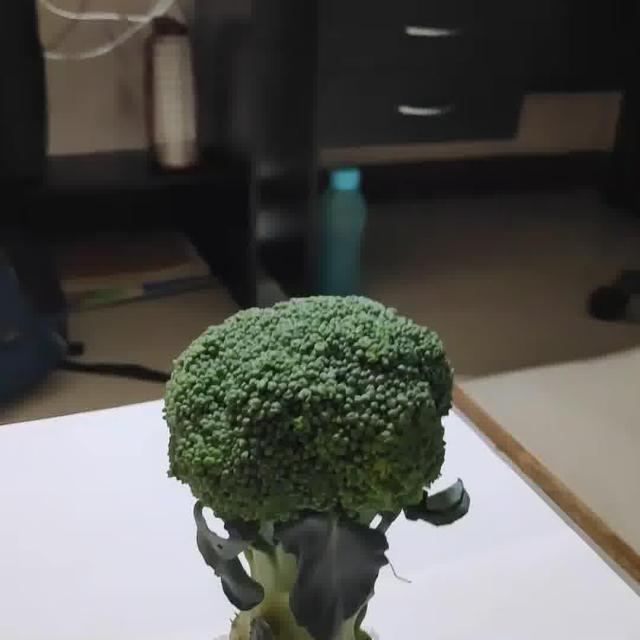Broccoli: (162, 296, 469, 639)
